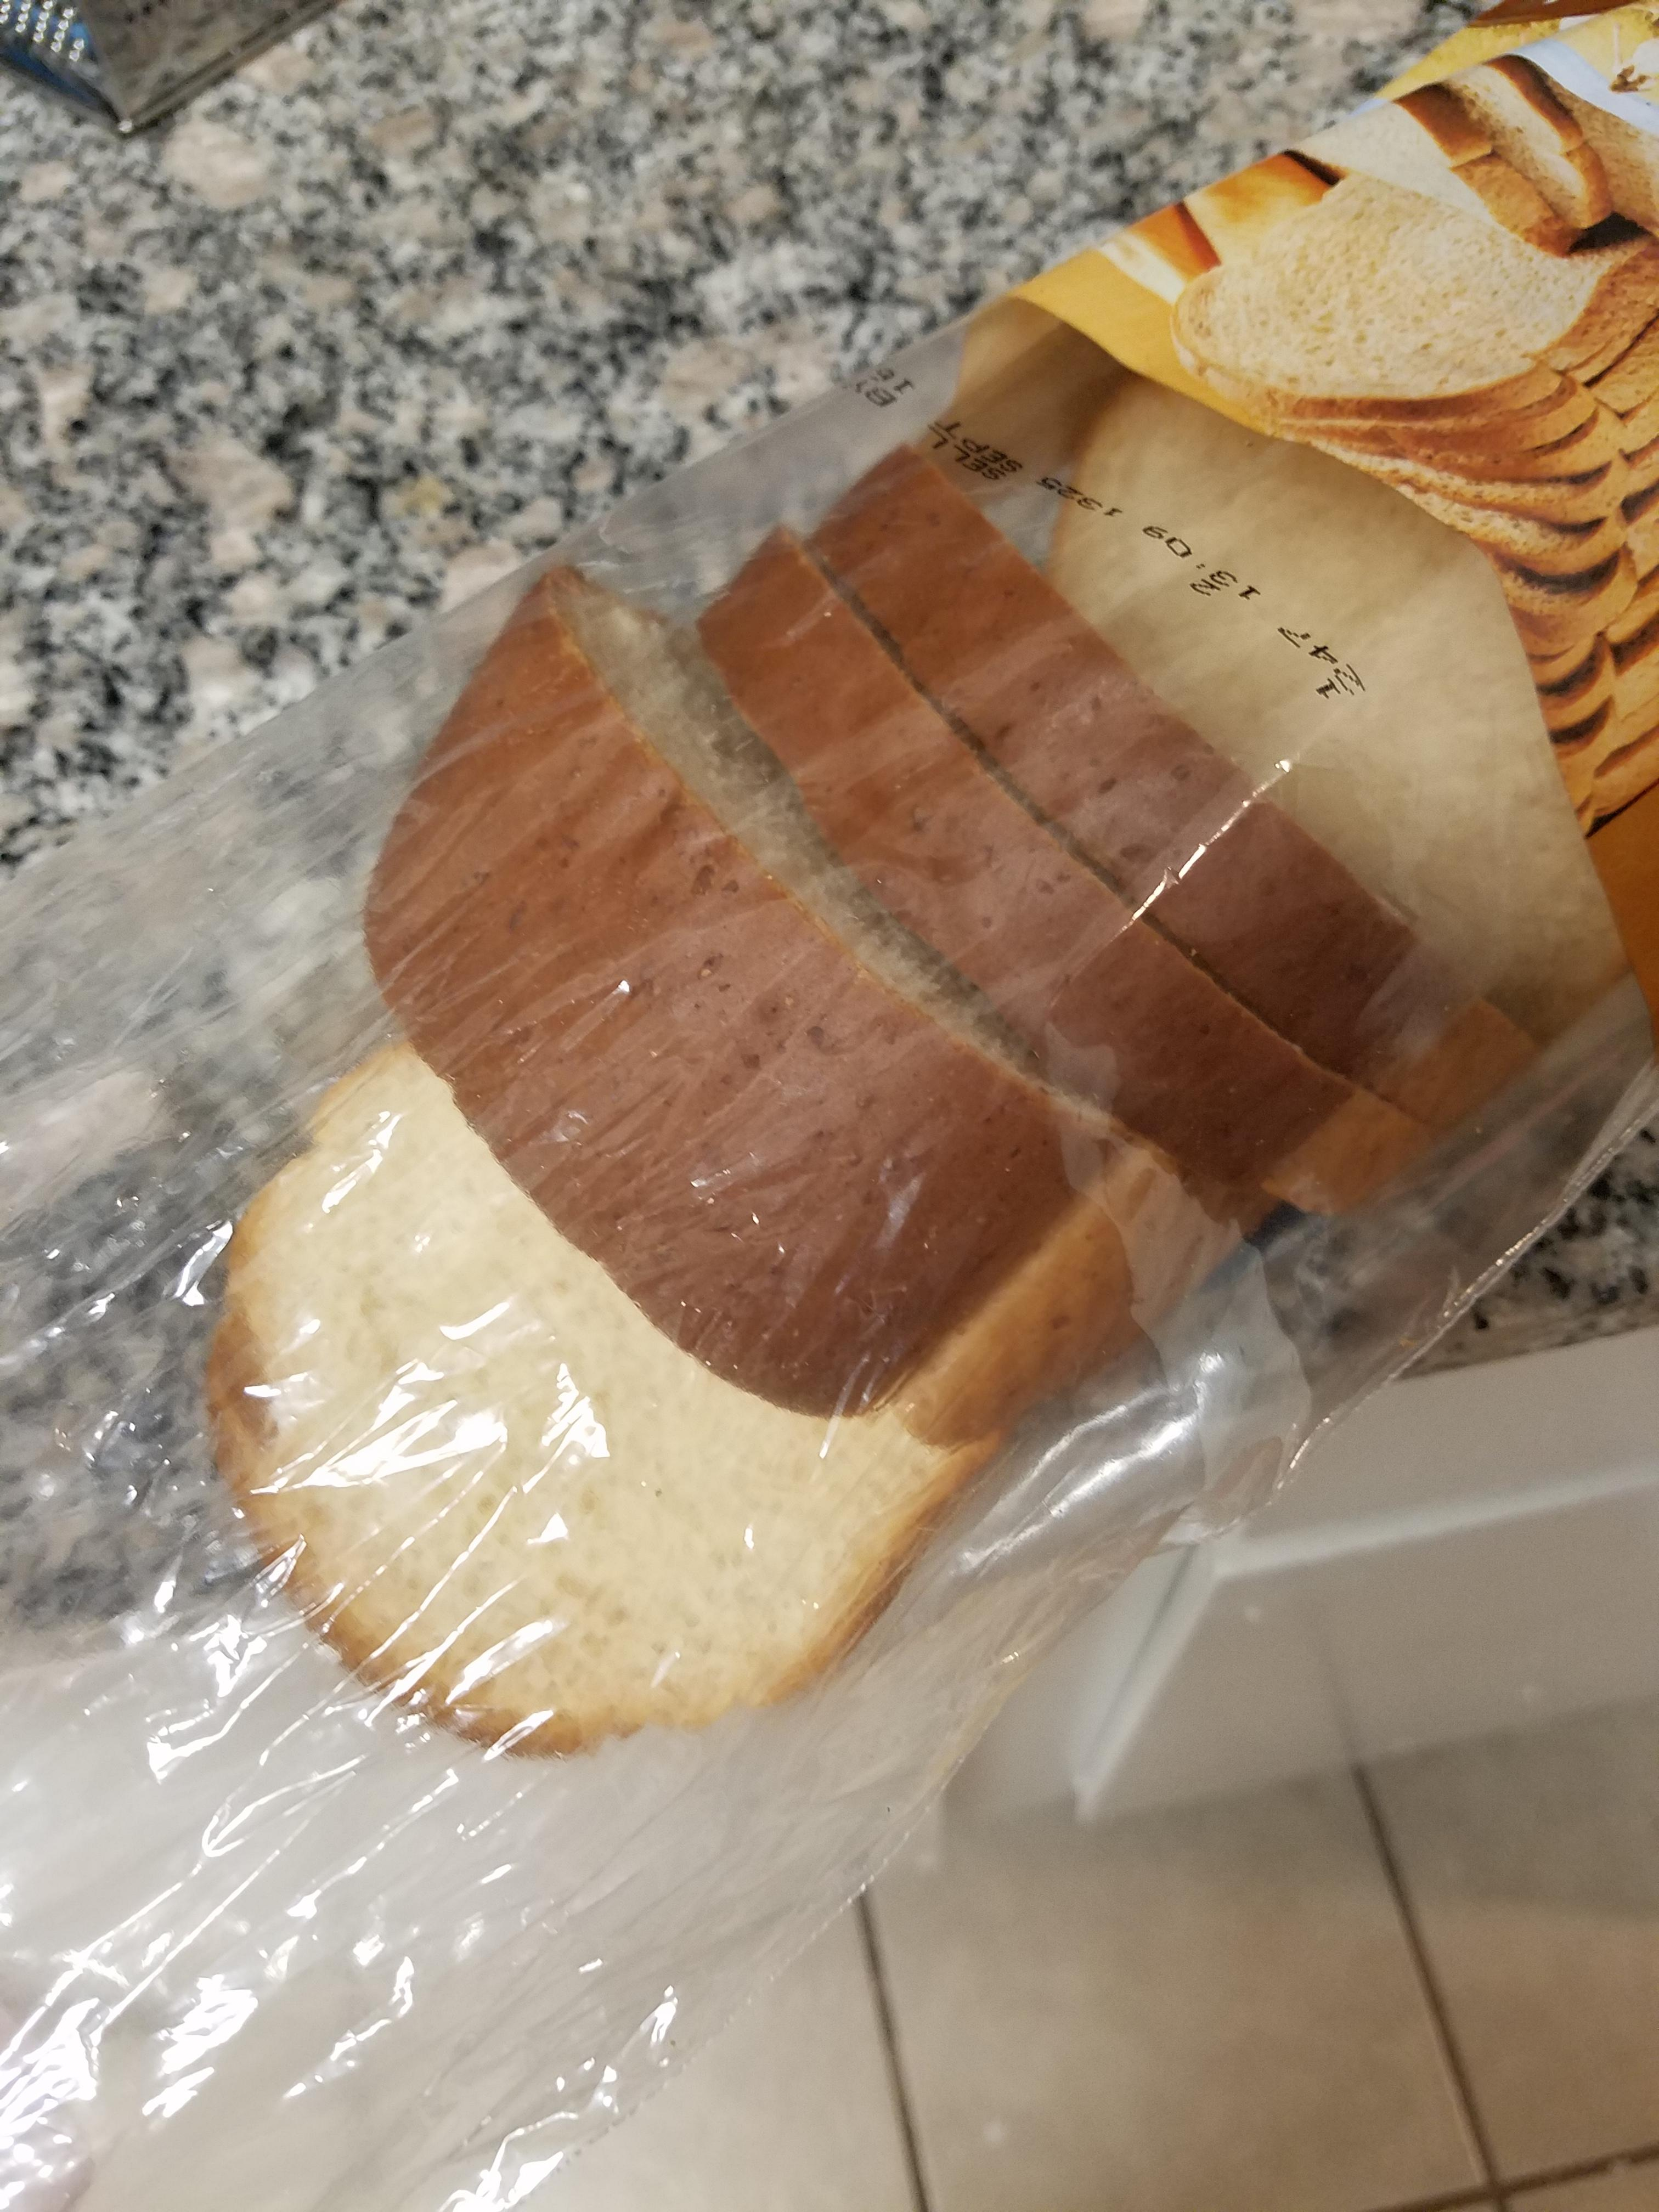slice of bread: (385, 488, 1413, 1470), (227, 1071, 913, 1764)
